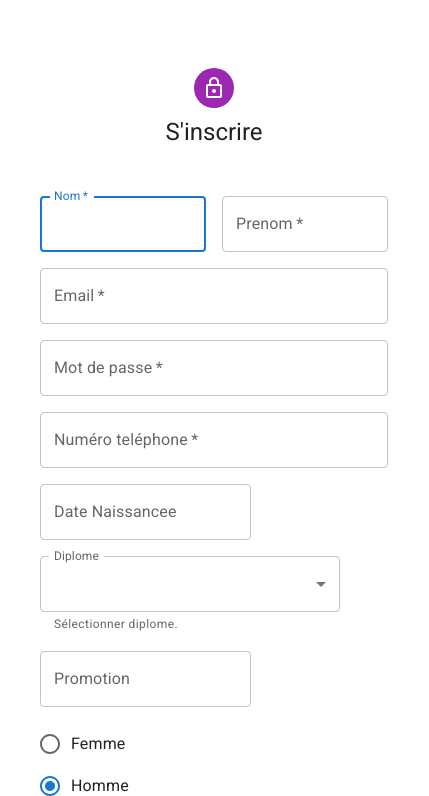
Test: Register Component › should display validation error for invalid email format
This screenshot has width=429, height=796.
Type "invalid_email" into the field with id "email" at (214, 296), box [40,268,388,324]
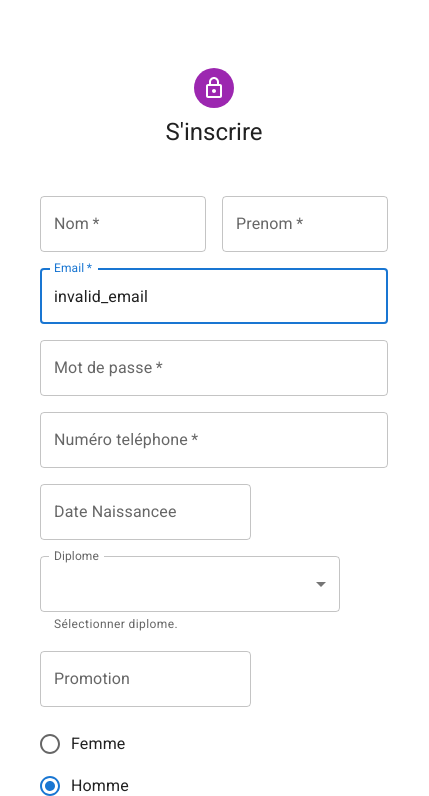
Scroll
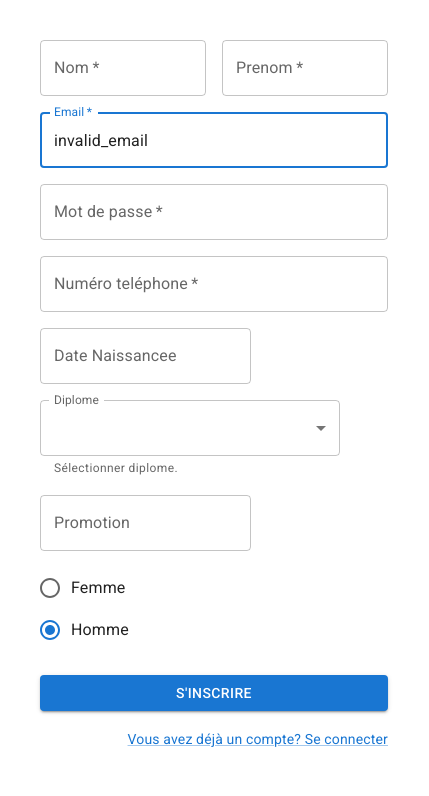
Submit the form
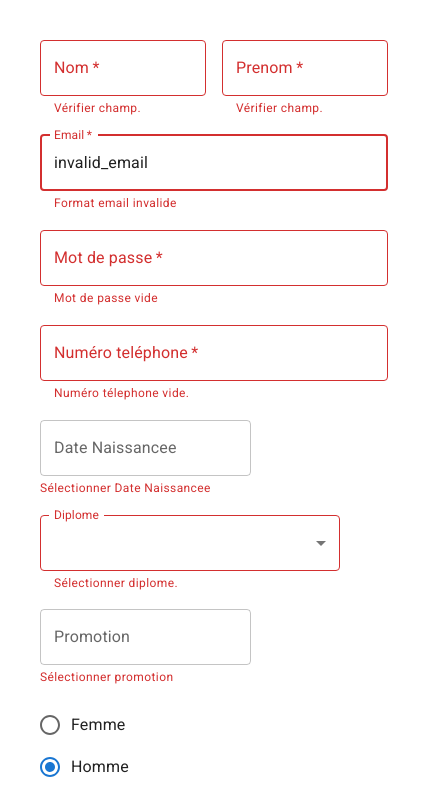
Expected: the text "Format email invalide" is shown, [54,196,177,210]
